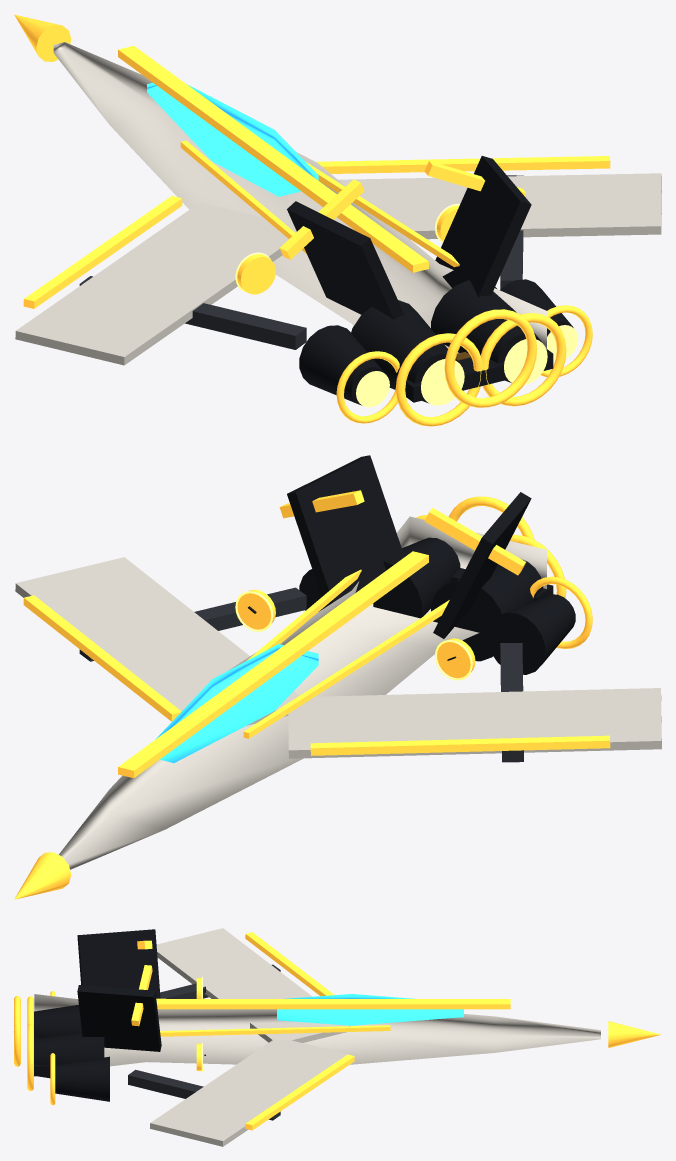
File: holder-doge-runner.glb
The picture shows the model from 3 angles, top to bottom: view 1: azimuth 30°, elevation 25°; view 2: azimuth 150°, elevation 25°; view 3: azimuth 270°, elevation 25°; orthographic projection. The views are drawn at different scales.
Visible parts, largest first — view 1: left_blade_wing, low_grand_prix_fuselage, canted_tail_fin (×2), right_blade_wing, engine_cowling (×4), bold_gold_spine, gold_engine_ring (×4), razor_gold_leading_edge (×2), flush_blue_canopy, graphite_wing_keel (×2), warm_engine_core (×3), side_gold_rail (×2) (+5 smaller); view 2: low_grand_prix_fuselage, left_blade_wing, right_blade_wing, canted_tail_fin (×2), engine_cowling (×3), bold_gold_spine, razor_gold_leading_edge (×2), flush_blue_canopy, side_gold_rail (×2), graphite_wing_keel (×2), tail_fin_gold_tip (×2), needle_gold_nose (+4 smaller); view 3: low_grand_prix_fuselage, right_blade_wing, canted_tail_fin (×2), left_blade_wing, engine_cowling (×3), bold_gold_spine, flush_blue_canopy, razor_gold_leading_edge (×2), graphite_wing_keel (×2), side_gold_rail, needle_gold_nose, subtle_rear_coin_halo (+2 smaller).
Boxes of the visible parts, bbox=[...] form: left_blade_wing: bbox=[15, 202, 296, 365]; low_grand_prix_fuselage: bbox=[53, 42, 546, 353]; canted_tail_fin (×2): bbox=[287, 156, 531, 319]; right_blade_wing: bbox=[288, 173, 661, 239]; engine_cowling (×4): bbox=[299, 279, 573, 405]; bold_gold_spine: bbox=[118, 45, 428, 272]; gold_engine_ring (×4): bbox=[336, 305, 592, 426]; razor_gold_leading_edge (×2): bbox=[23, 156, 610, 308]; flush_blue_canopy: bbox=[147, 83, 318, 196]; graphite_wing_keel (×2): bbox=[79, 175, 523, 349]; warm_engine_core (×3): bbox=[356, 339, 547, 407]; side_gold_rail (×2): bbox=[180, 140, 459, 267]; low_grand_prix_fuselage: bbox=[58, 516, 546, 869]; left_blade_wing: bbox=[288, 688, 661, 758]; right_blade_wing: bbox=[15, 557, 299, 725]; canted_tail_fin (×2): bbox=[287, 455, 531, 638]; engine_cowling (×3): bbox=[373, 537, 575, 674]; bold_gold_spine: bbox=[118, 551, 428, 778]; razor_gold_leading_edge (×2): bbox=[23, 595, 610, 755]; flush_blue_canopy: bbox=[155, 644, 318, 762]; side_gold_rail (×2): bbox=[243, 569, 449, 738]; graphite_wing_keel (×2): bbox=[79, 587, 523, 762]; tail_fin_gold_tip (×2): bbox=[279, 490, 525, 575]; needle_gold_nose: bbox=[14, 852, 71, 899]; low_grand_prix_fuselage: bbox=[34, 994, 600, 1066]; right_blade_wing: bbox=[150, 1040, 349, 1146]; canted_tail_fin (×2): bbox=[77, 929, 161, 1051]; left_blade_wing: bbox=[156, 928, 350, 1042]; engine_cowling (×3): bbox=[34, 1004, 109, 1101]; bold_gold_spine: bbox=[156, 999, 510, 1009]; flush_blue_canopy: bbox=[277, 994, 463, 1025]; razor_gold_leading_edge (×2): bbox=[245, 932, 354, 1130]; graphite_wing_keel (×2): bbox=[128, 964, 280, 1120]; side_gold_rail: bbox=[160, 1025, 390, 1036]; needle_gold_nose: bbox=[608, 1021, 661, 1048]; subtle_rear_coin_halo: bbox=[14, 995, 20, 1066].
Size of the model in its own units: 8.1 by 2.15 by 10.41.
